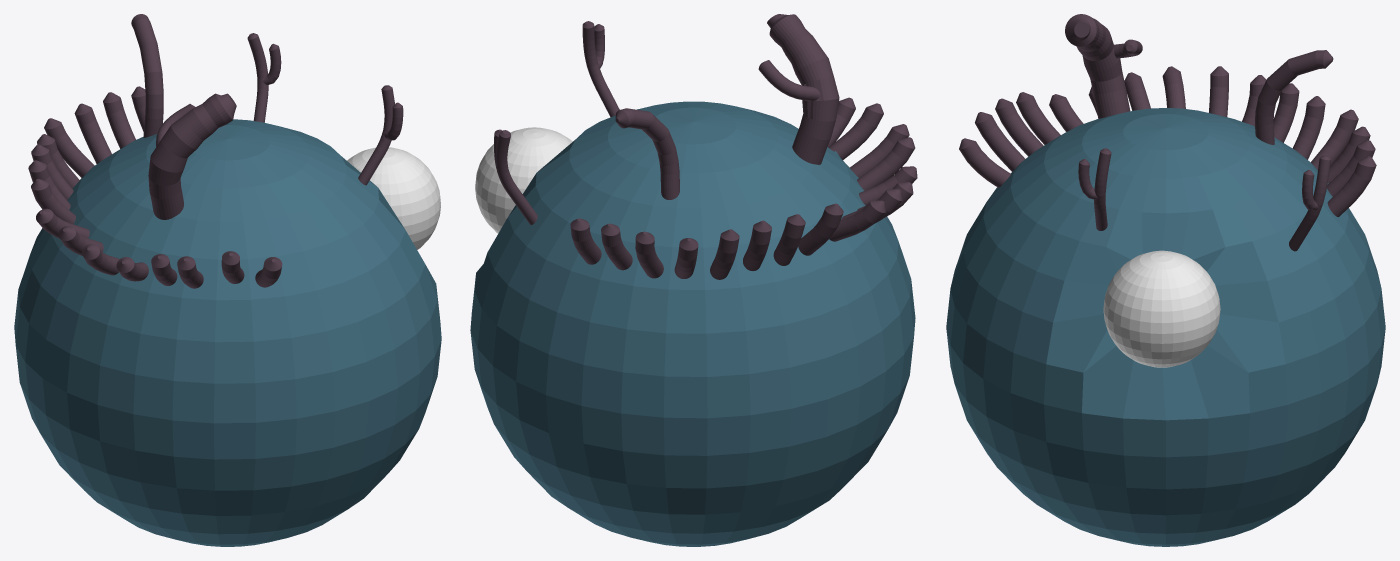
Rendered from Anticor_2.fbx.
The picture shows the model from 3 angles, left to right: view 1: azimuth 30°, elevation 25°; view 2: azimuth 150°, elevation 25°; view 3: azimuth 270°, elevation 25°; orthographic projection. The views are drawn at different scales.
Visible parts, largest first — view 1: Anticor2; view 2: Anticor2; view 3: Anticor2.
Boxes of the visible parts, <box> form: Anticor2: <box>14,14,441,546</box>; Anticor2: <box>470,14,917,546</box>; Anticor2: <box>946,14,1385,546</box>.
Bounding box in the file's own units: 211 × 244 × 200.
